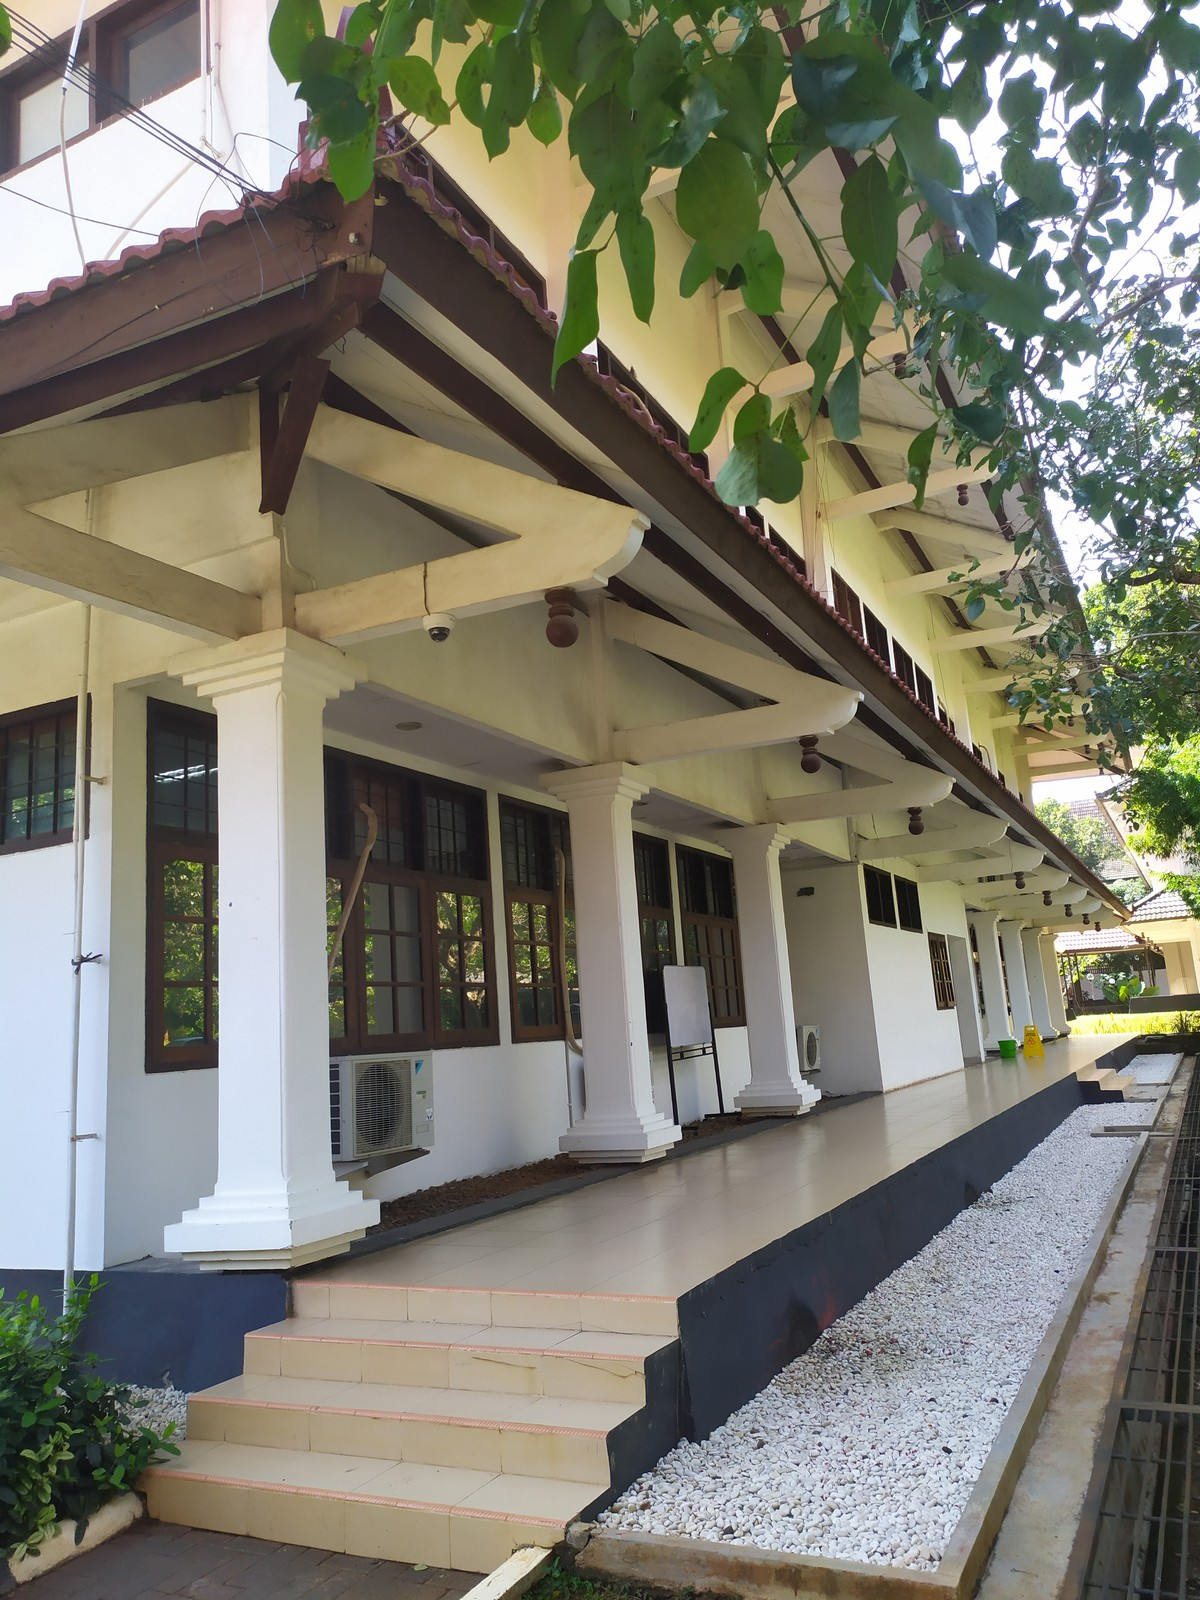concrete beam: (18, 525, 263, 651), (292, 543, 570, 653), (597, 711, 799, 769), (756, 784, 916, 829)
concrete column: (203, 693, 342, 1194), (561, 805, 661, 1120), (730, 850, 804, 1083)
